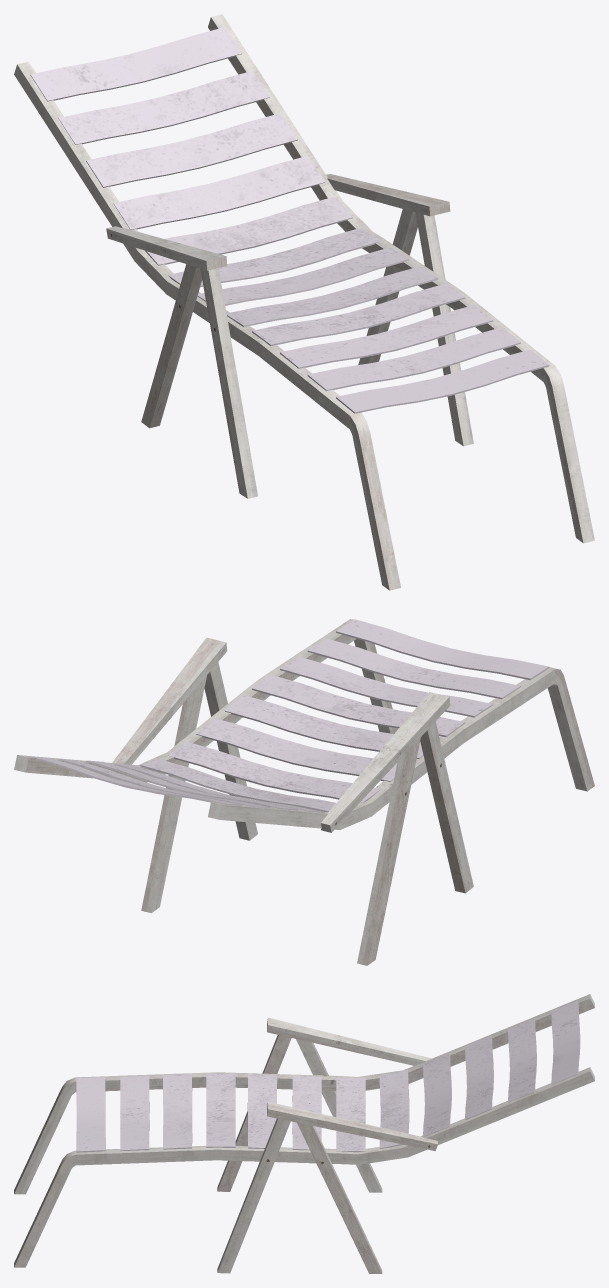
Rendered from beachchair.fbx.
The picture shows the model from 3 angles, top to bottom: view 1: azimuth 30°, elevation 25°; view 2: azimuth 150°, elevation 25°; view 3: azimuth 270°, elevation 25°; orthographic projection. The views are drawn at different scales.
Visible parts, largest first — view 1: beachchair; view 2: beachchair; view 3: beachchair.
Part boxes in pixels (x1=…): beachchair: x1=14, y1=14, x2=594, y2=590; beachchair: x1=14, y1=619, x2=594, y2=965; beachchair: x1=14, y1=994, x2=594, y2=1273.
Bounding box in the file's own units: 72.99 × 73.71 × 195.
